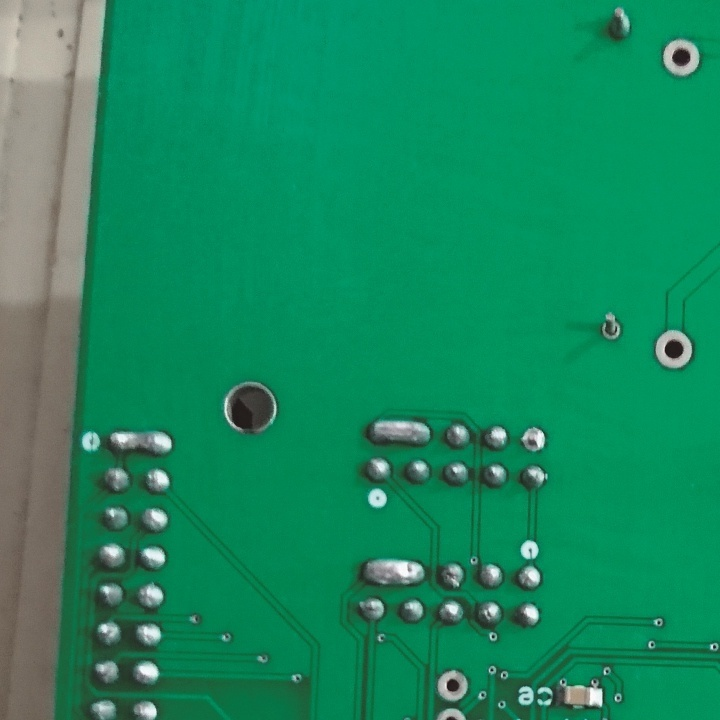F: (653, 324, 696, 374), (660, 37, 702, 81), (434, 669, 470, 704), (519, 420, 549, 453), (596, 309, 624, 342)
P: (360, 553, 428, 592), (367, 415, 436, 448), (104, 427, 176, 458)
